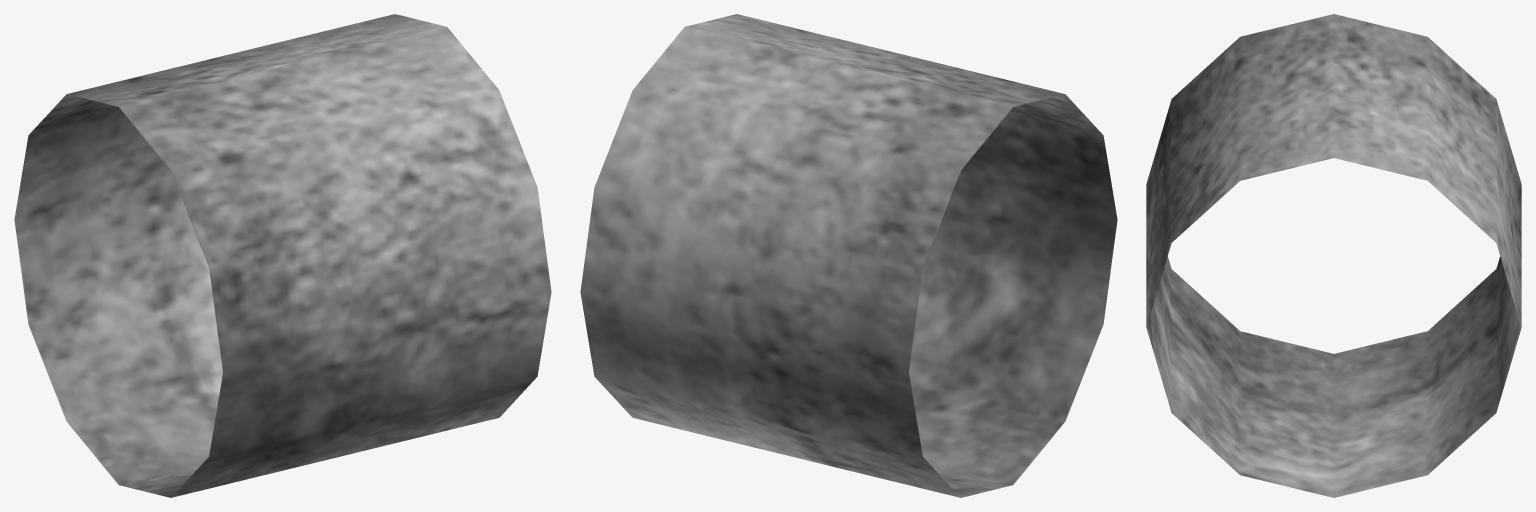
The model's file is WallGunPt3.obj.
3 views of the same model, side by side, from view 1: azimuth 30°, elevation 25°; view 2: azimuth 150°, elevation 25°; view 3: azimuth 270°, elevation 25° (orthographic). The views are drawn at different scales.
Parts seen in each view (by area): view 1: Cube.003_Cube.003_Material.001; view 2: Cube.003_Cube.003_Material.001; view 3: Cube.003_Cube.003_Material.001.
Part boxes in pixels (x1,y1,x2,y2): Cube.003_Cube.003_Material.001: (14, 14, 551, 497); Cube.003_Cube.003_Material.001: (580, 14, 1117, 497); Cube.003_Cube.003_Material.001: (1146, 14, 1521, 497).
Bounding box in the file's own units: 2 × 2.2 × 2.2.
